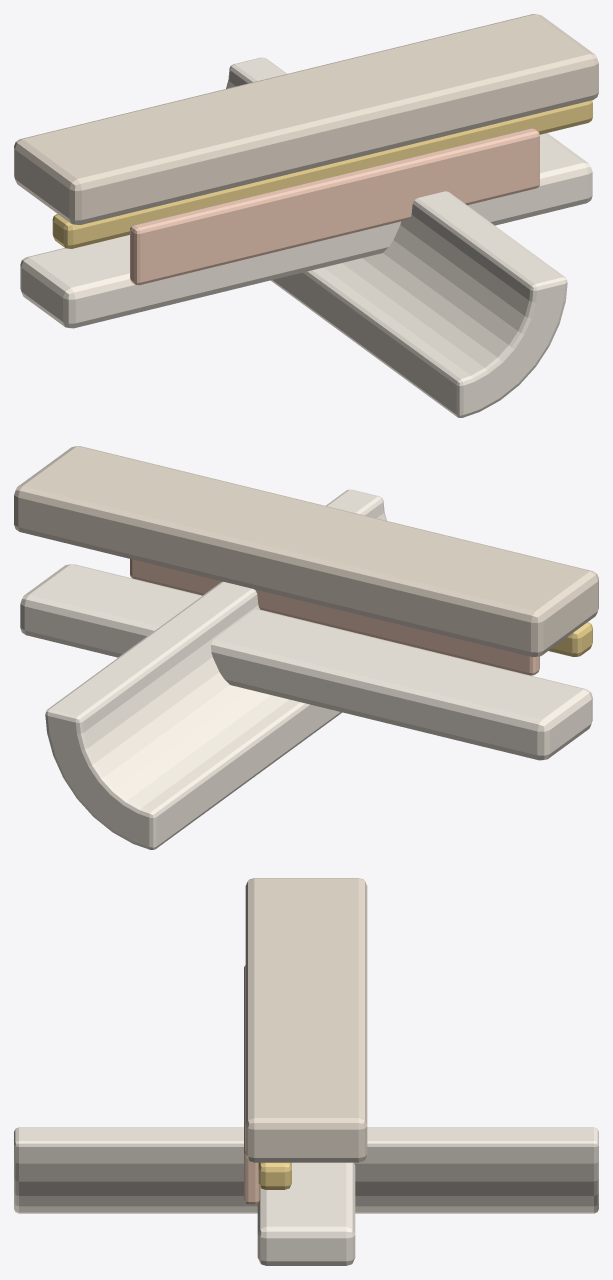
The model's file is opera_cove_cornice.glb.
3 renders of one model, top to bottom at view 1: azimuth 30°, elevation 25°; view 2: azimuth 150°, elevation 25°; view 3: azimuth 270°, elevation 25°, orthographic. The views are drawn at different scales.
Parts seen in each view (by area): view 1: opera_cove_cornice.001; view 2: opera_cove_cornice.001; view 3: opera_cove_cornice.001.
Boxes of the visible parts, x1,y1,x2,y2 form: opera_cove_cornice.001: (14,14,598,417); opera_cove_cornice.001: (14,446,598,849); opera_cove_cornice.001: (14,878,598,1265).
Size of the model in its own units: 6 by 2.31 by 6.
